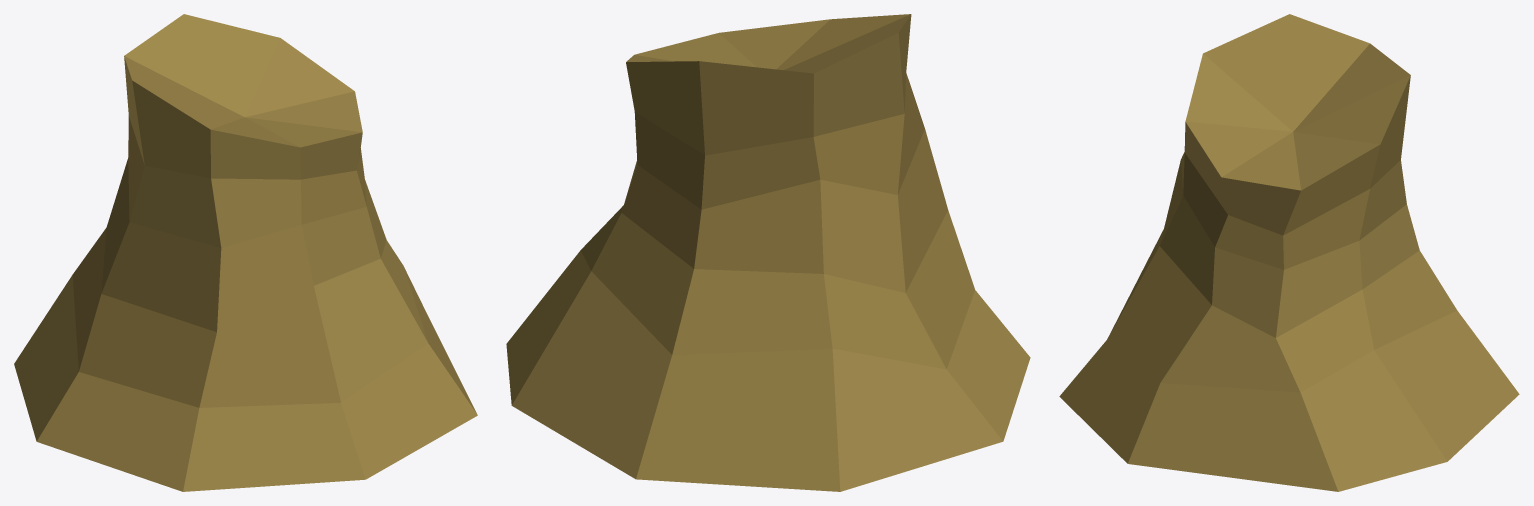
Rendered from Detail3.fbx.
The picture shows the model from 3 angles, left to right: view 1: azimuth 30°, elevation 25°; view 2: azimuth 150°, elevation 25°; view 3: azimuth 270°, elevation 25°; orthographic projection. The views are drawn at different scales.
Parts seen in each view (by area): view 1: Cylinder.001; view 2: Cylinder.001; view 3: Cylinder.001.
Boxes of the visible parts, box(x1,y1,x2,y2) form: Cylinder.001: box(14, 14, 477, 491); Cylinder.001: box(506, 14, 1030, 491); Cylinder.001: box(1059, 14, 1519, 491).
Size of the model in its own units: 173 by 136 by 171.
